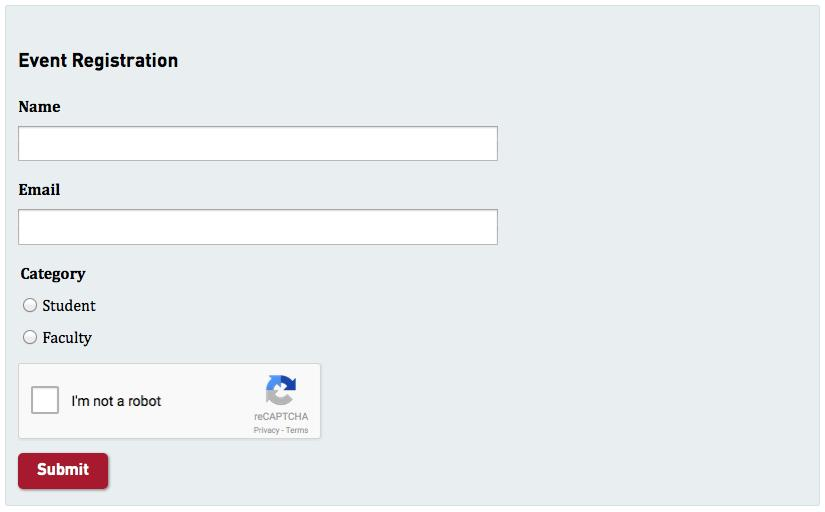button: (11, 452, 119, 497)
checkbox: (14, 360, 329, 448)
radiobutton: (12, 265, 110, 356)
textbox: (13, 200, 513, 256), (16, 118, 518, 169)
